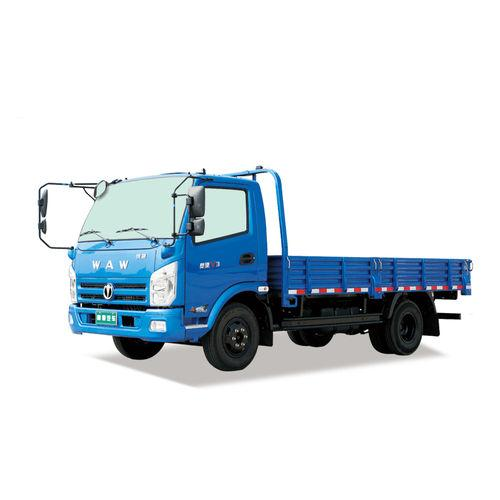truck: (30, 148, 474, 376)
